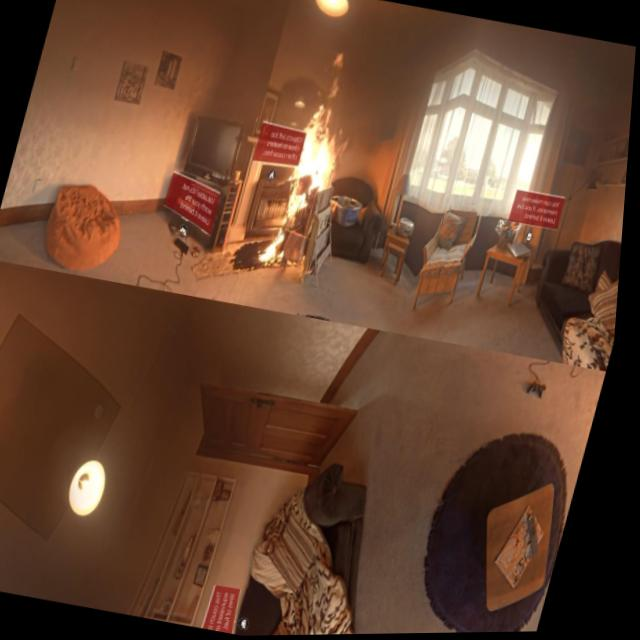fire: (262, 48, 374, 274)
